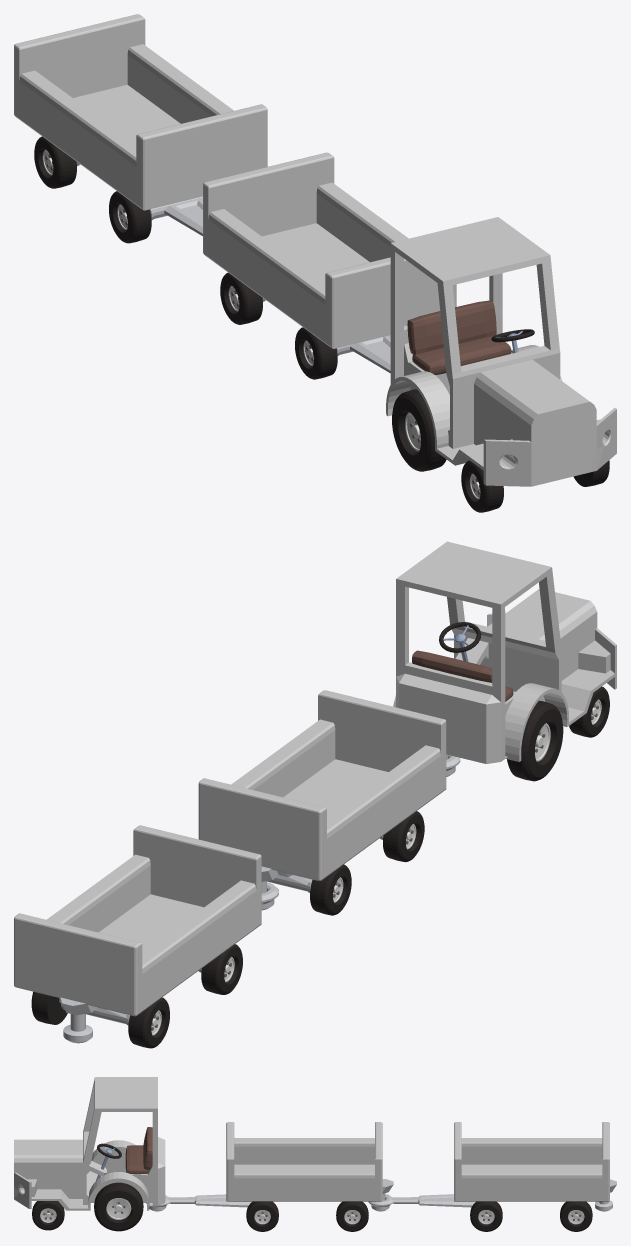
The model's file is airport-truck.fbx.
3 renders of one model, top to bottom at view 1: azimuth 30°, elevation 25°; view 2: azimuth 150°, elevation 25°; view 3: azimuth 270°, elevation 25°, orthographic. The views are drawn at different scales.
Parts seen in each view (by area): view 1: BaggageCar_Curtain_07.002_LuggageCart_0; view 2: BaggageCar_Curtain_07.002_LuggageCart_0; view 3: BaggageCar_Curtain_07.002_LuggageCart_0.
Part boxes in pixels (<box>): BaggageCar_Curtain_07.002_LuggageCart_0: <box>14,14,616,512</box>; BaggageCar_Curtain_07.002_LuggageCart_0: <box>14,541,616,1048</box>; BaggageCar_Curtain_07.002_LuggageCart_0: <box>14,1077,616,1231</box>.
Size of the model in its own units: 166 by 230 by 1045.
